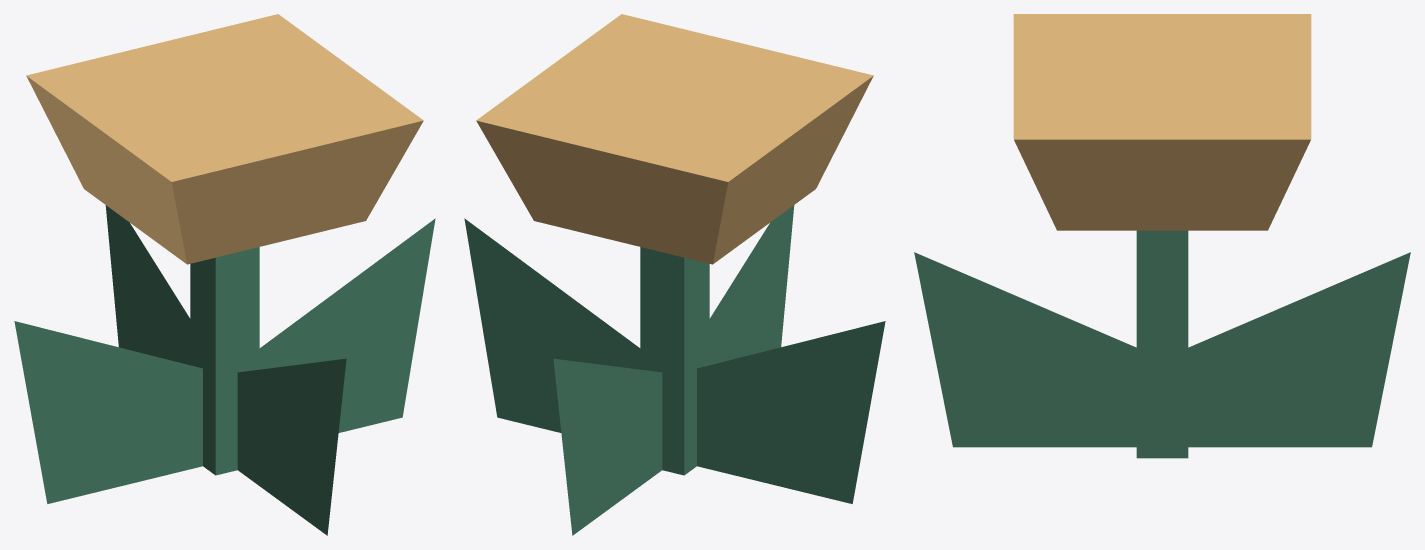
Rendered from Flower_Yellow_02.obj.
3 renders of one model, left to right at view 1: azimuth 30°, elevation 25°; view 2: azimuth 150°, elevation 25°; view 3: azimuth 270°, elevation 25°, orthographic. The views are drawn at different scales.
Visible parts, largest first — view 1: Mesh4_Flower_Yellow_Model.001; view 2: Mesh4_Flower_Yellow_Model.001; view 3: Mesh4_Flower_Yellow_Model.001.
Boxes of the visible parts, x1,y1,x2,y2 form: Mesh4_Flower_Yellow_Model.001: (14, 14, 435, 535); Mesh4_Flower_Yellow_Model.001: (464, 14, 885, 535); Mesh4_Flower_Yellow_Model.001: (914, 14, 1410, 458).
Size of the model in its own units: 0.4859 by 0.4 by 0.4859.
